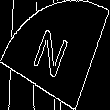N_SW: (33, 24, 77, 86)
